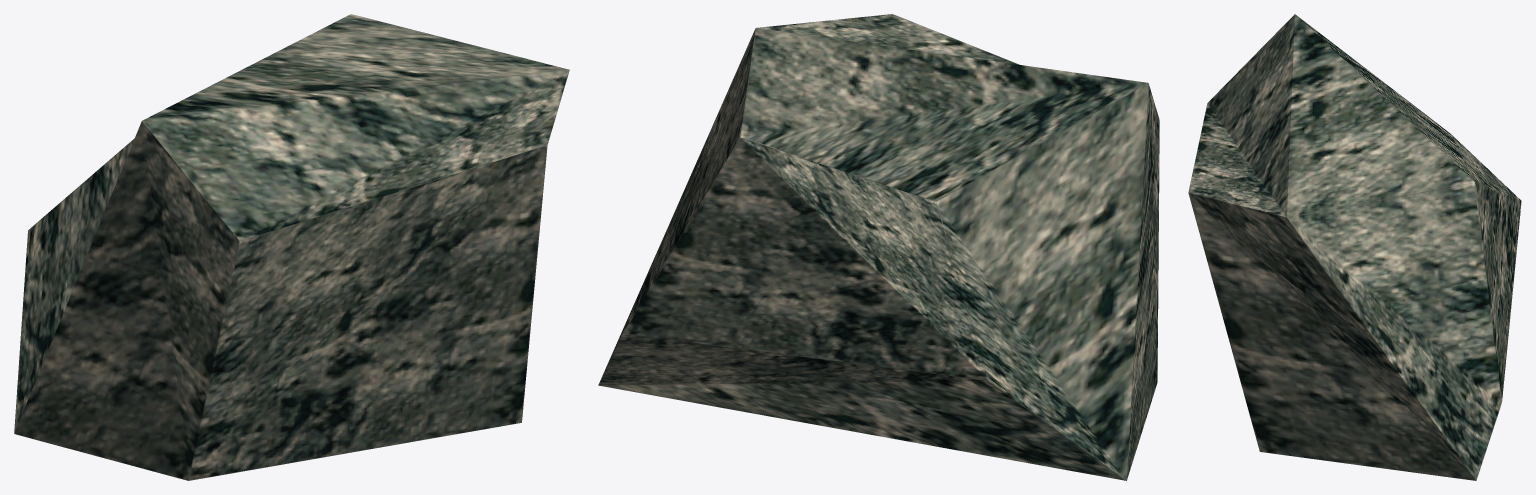
Rendered from WKRock8.fbx.
3 views of the same model, side by side, from view 1: azimuth 30°, elevation 25°; view 2: azimuth 150°, elevation 25°; view 3: azimuth 270°, elevation 25° (orthographic). The views are drawn at different scales.
Visible parts, largest first — view 1: WKROCK8; view 2: WKROCK8; view 3: WKROCK8.
Part boxes in pixels (left/top/right/bottom): WKROCK8: left=14, top=14, right=569, bottom=480; WKROCK8: left=598, top=14, right=1159, bottom=480; WKROCK8: left=1188, top=14, right=1521, bottom=480.
Size of the model in its own units: 10.22 by 6.95 by 7.04.
